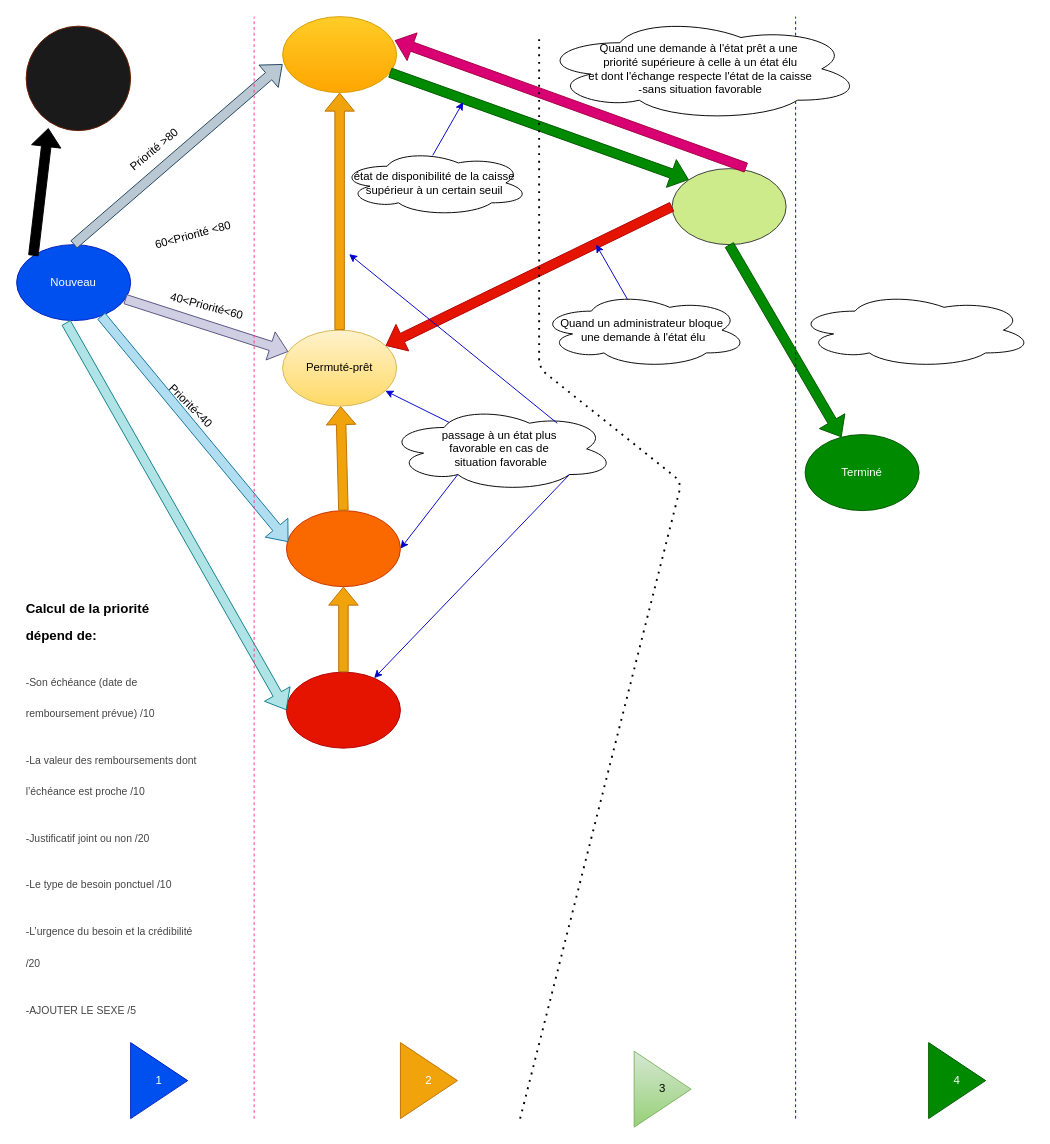
This 1050x1144 diagram has some shape labels left out. Each missing label, with the centre of its shape:
"Bloqué" belongs at point (342, 548).
"Elu" belongs at point (728, 206).
"Permuté-bloqué" belongs at point (342, 709).
"Prêt" belongs at point (339, 54).
"Quand un demandeur a perçu la somme demandée" belongs at point (914, 329).
"Supprimé" belongs at point (78, 78).
